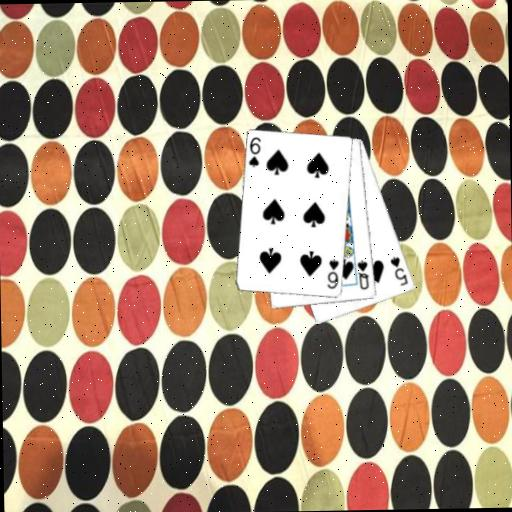5S: (388, 254, 410, 288)
6S: (324, 256, 342, 290), (245, 135, 263, 169)
QS: (355, 257, 371, 291)
